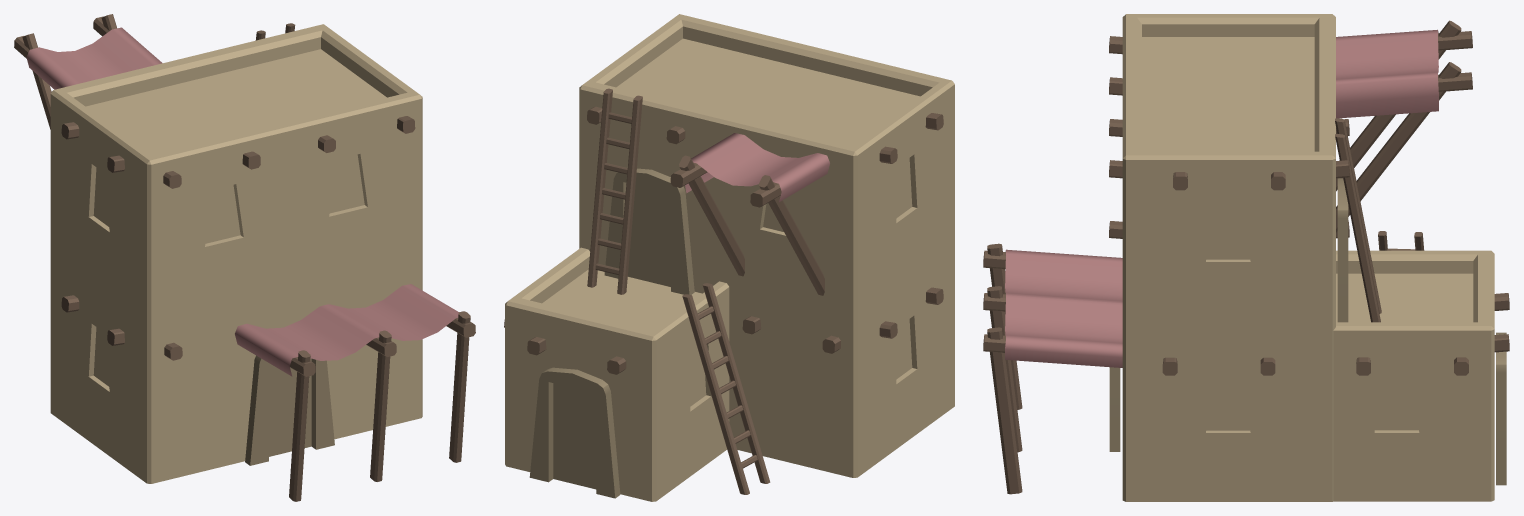
Rendered from Hut_03.fbx.
3 views of the same model, side by side, from view 1: azimuth 30°, elevation 25°; view 2: azimuth 150°, elevation 25°; view 3: azimuth 270°, elevation 25° (orthographic). The views are drawn at different scales.
Visible parts, largest first — view 1: Hut_03; view 2: Hut_03; view 3: Hut_03.
Part boxes in pixels (<box>): Hut_03: <box>14,14,475,501</box>; Hut_03: <box>504,14,954,501</box>; Hut_03: <box>983,14,1509,501</box>.
Size of the model in its own units: 3.25 by 3.45 by 4.64.
